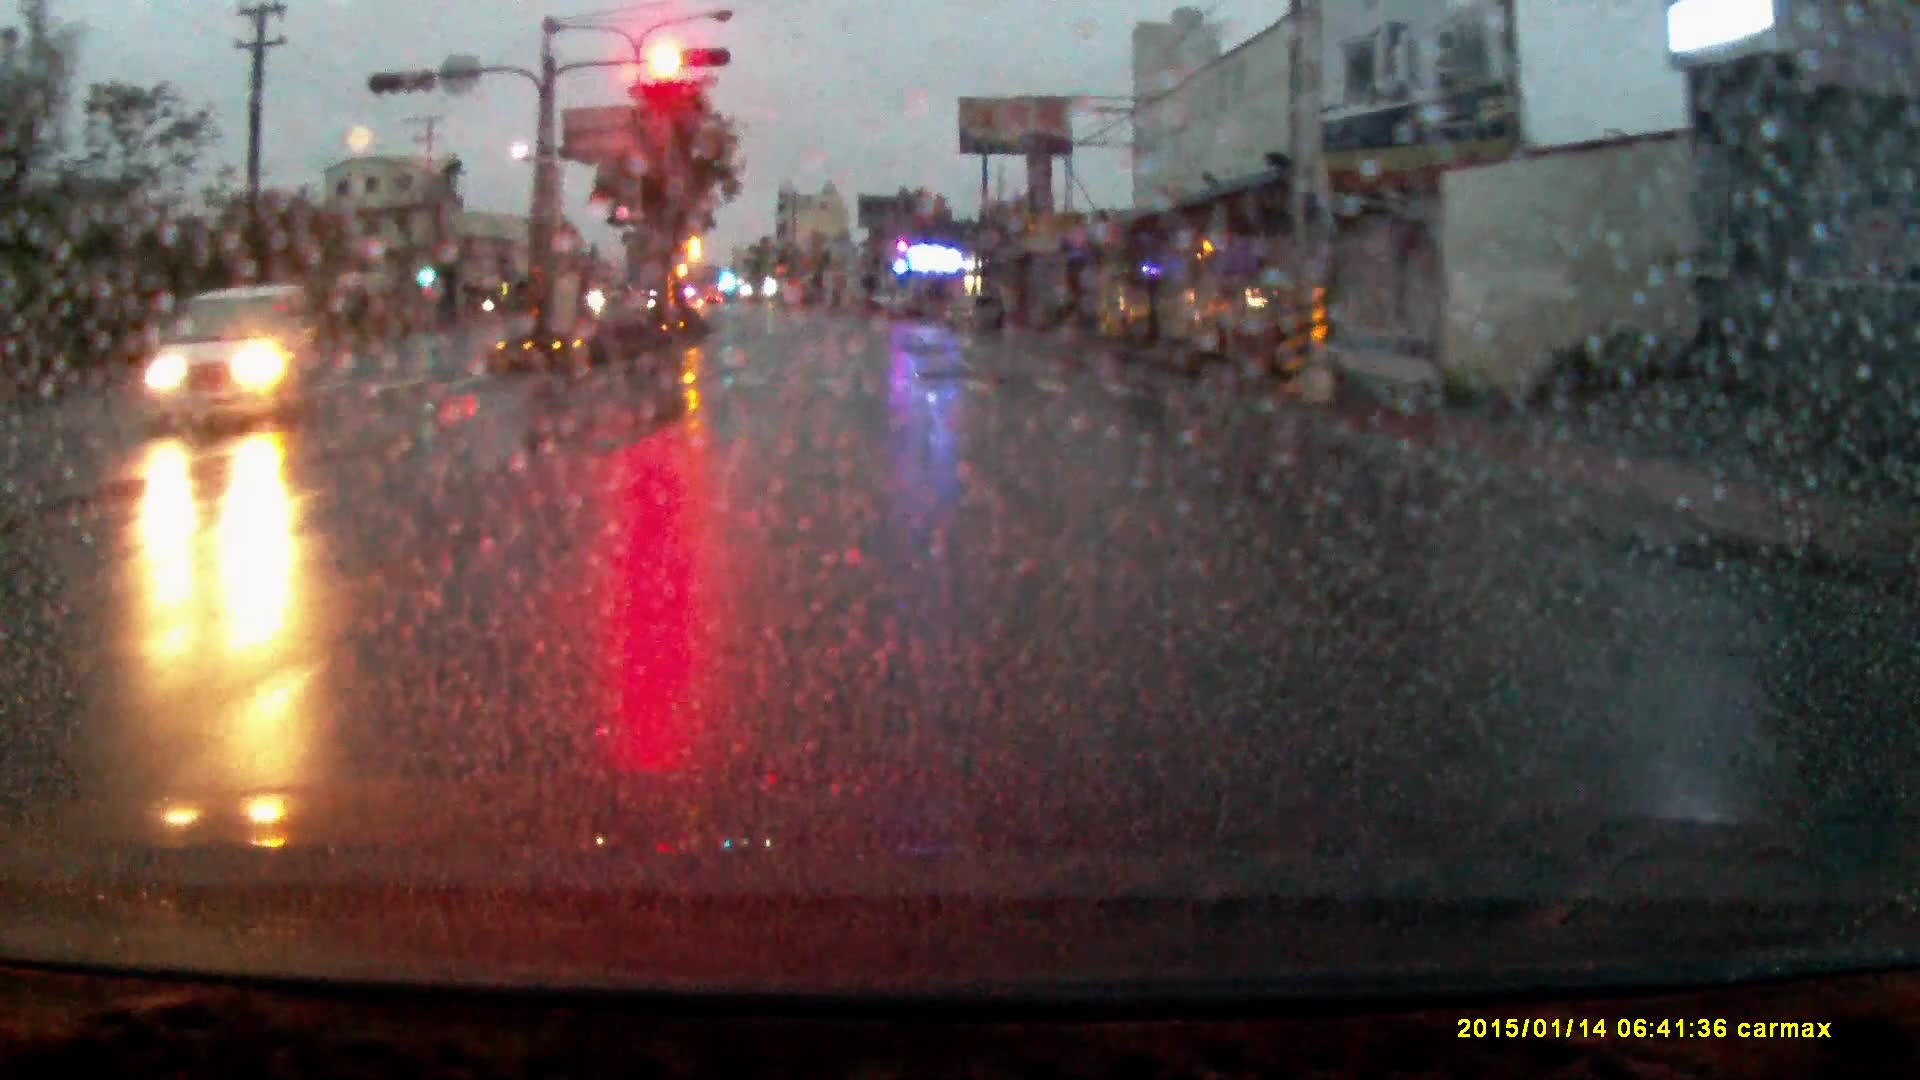vehicle: (132, 284, 316, 435)
